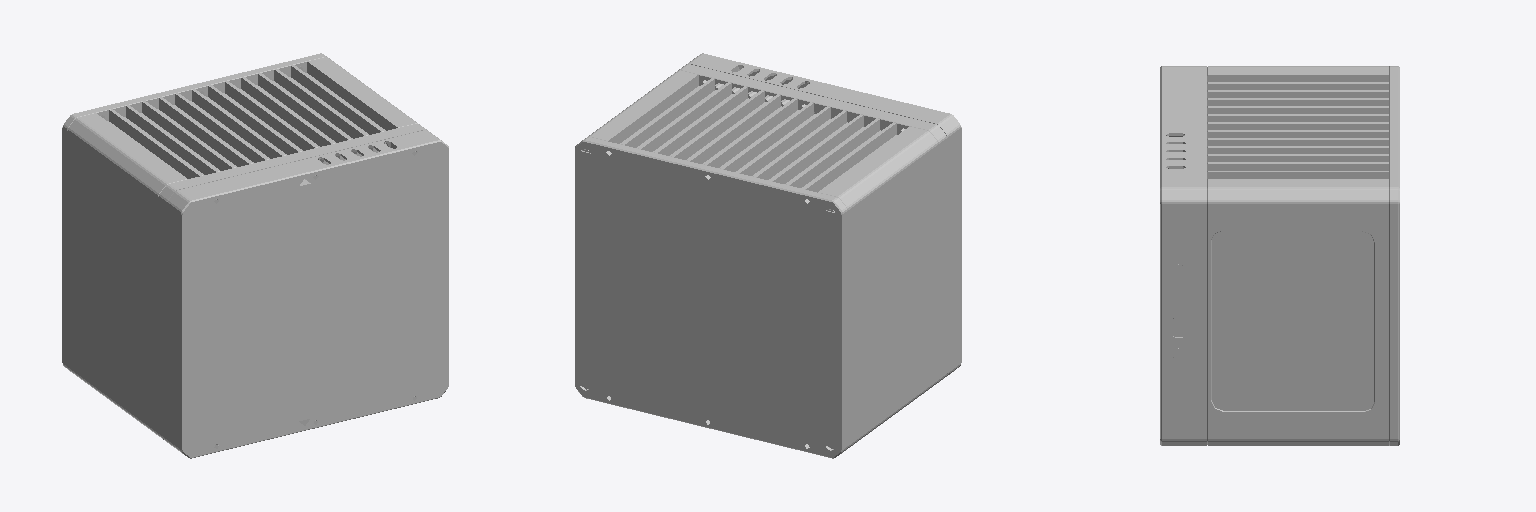
File: tele15.obj
The picture shows the model from 3 angles: view 1: azimuth 30°, elevation 25°; view 2: azimuth 150°, elevation 25°; view 3: azimuth 270°, elevation 25°; orthographic projection.
Parts seen in each view (by area): view 1: 1, 11, 5, 9; view 2: 11, 1, 9; view 3: 11, 12, 1.
Part boxes in pixels (x1,y1,x2,y2): 1: (62, 62, 448, 458); 11: (63, 53, 416, 436); 5: (183, 142, 448, 456); 9: (190, 90, 281, 158); 11: (575, 70, 937, 458); 1: (608, 53, 961, 451); 9: (576, 103, 839, 457); 11: (1208, 66, 1399, 445); 12: (1212, 231, 1373, 410); 1: (1160, 66, 1308, 445).
Size of the model in its own units: 122 by 112 by 94.2.